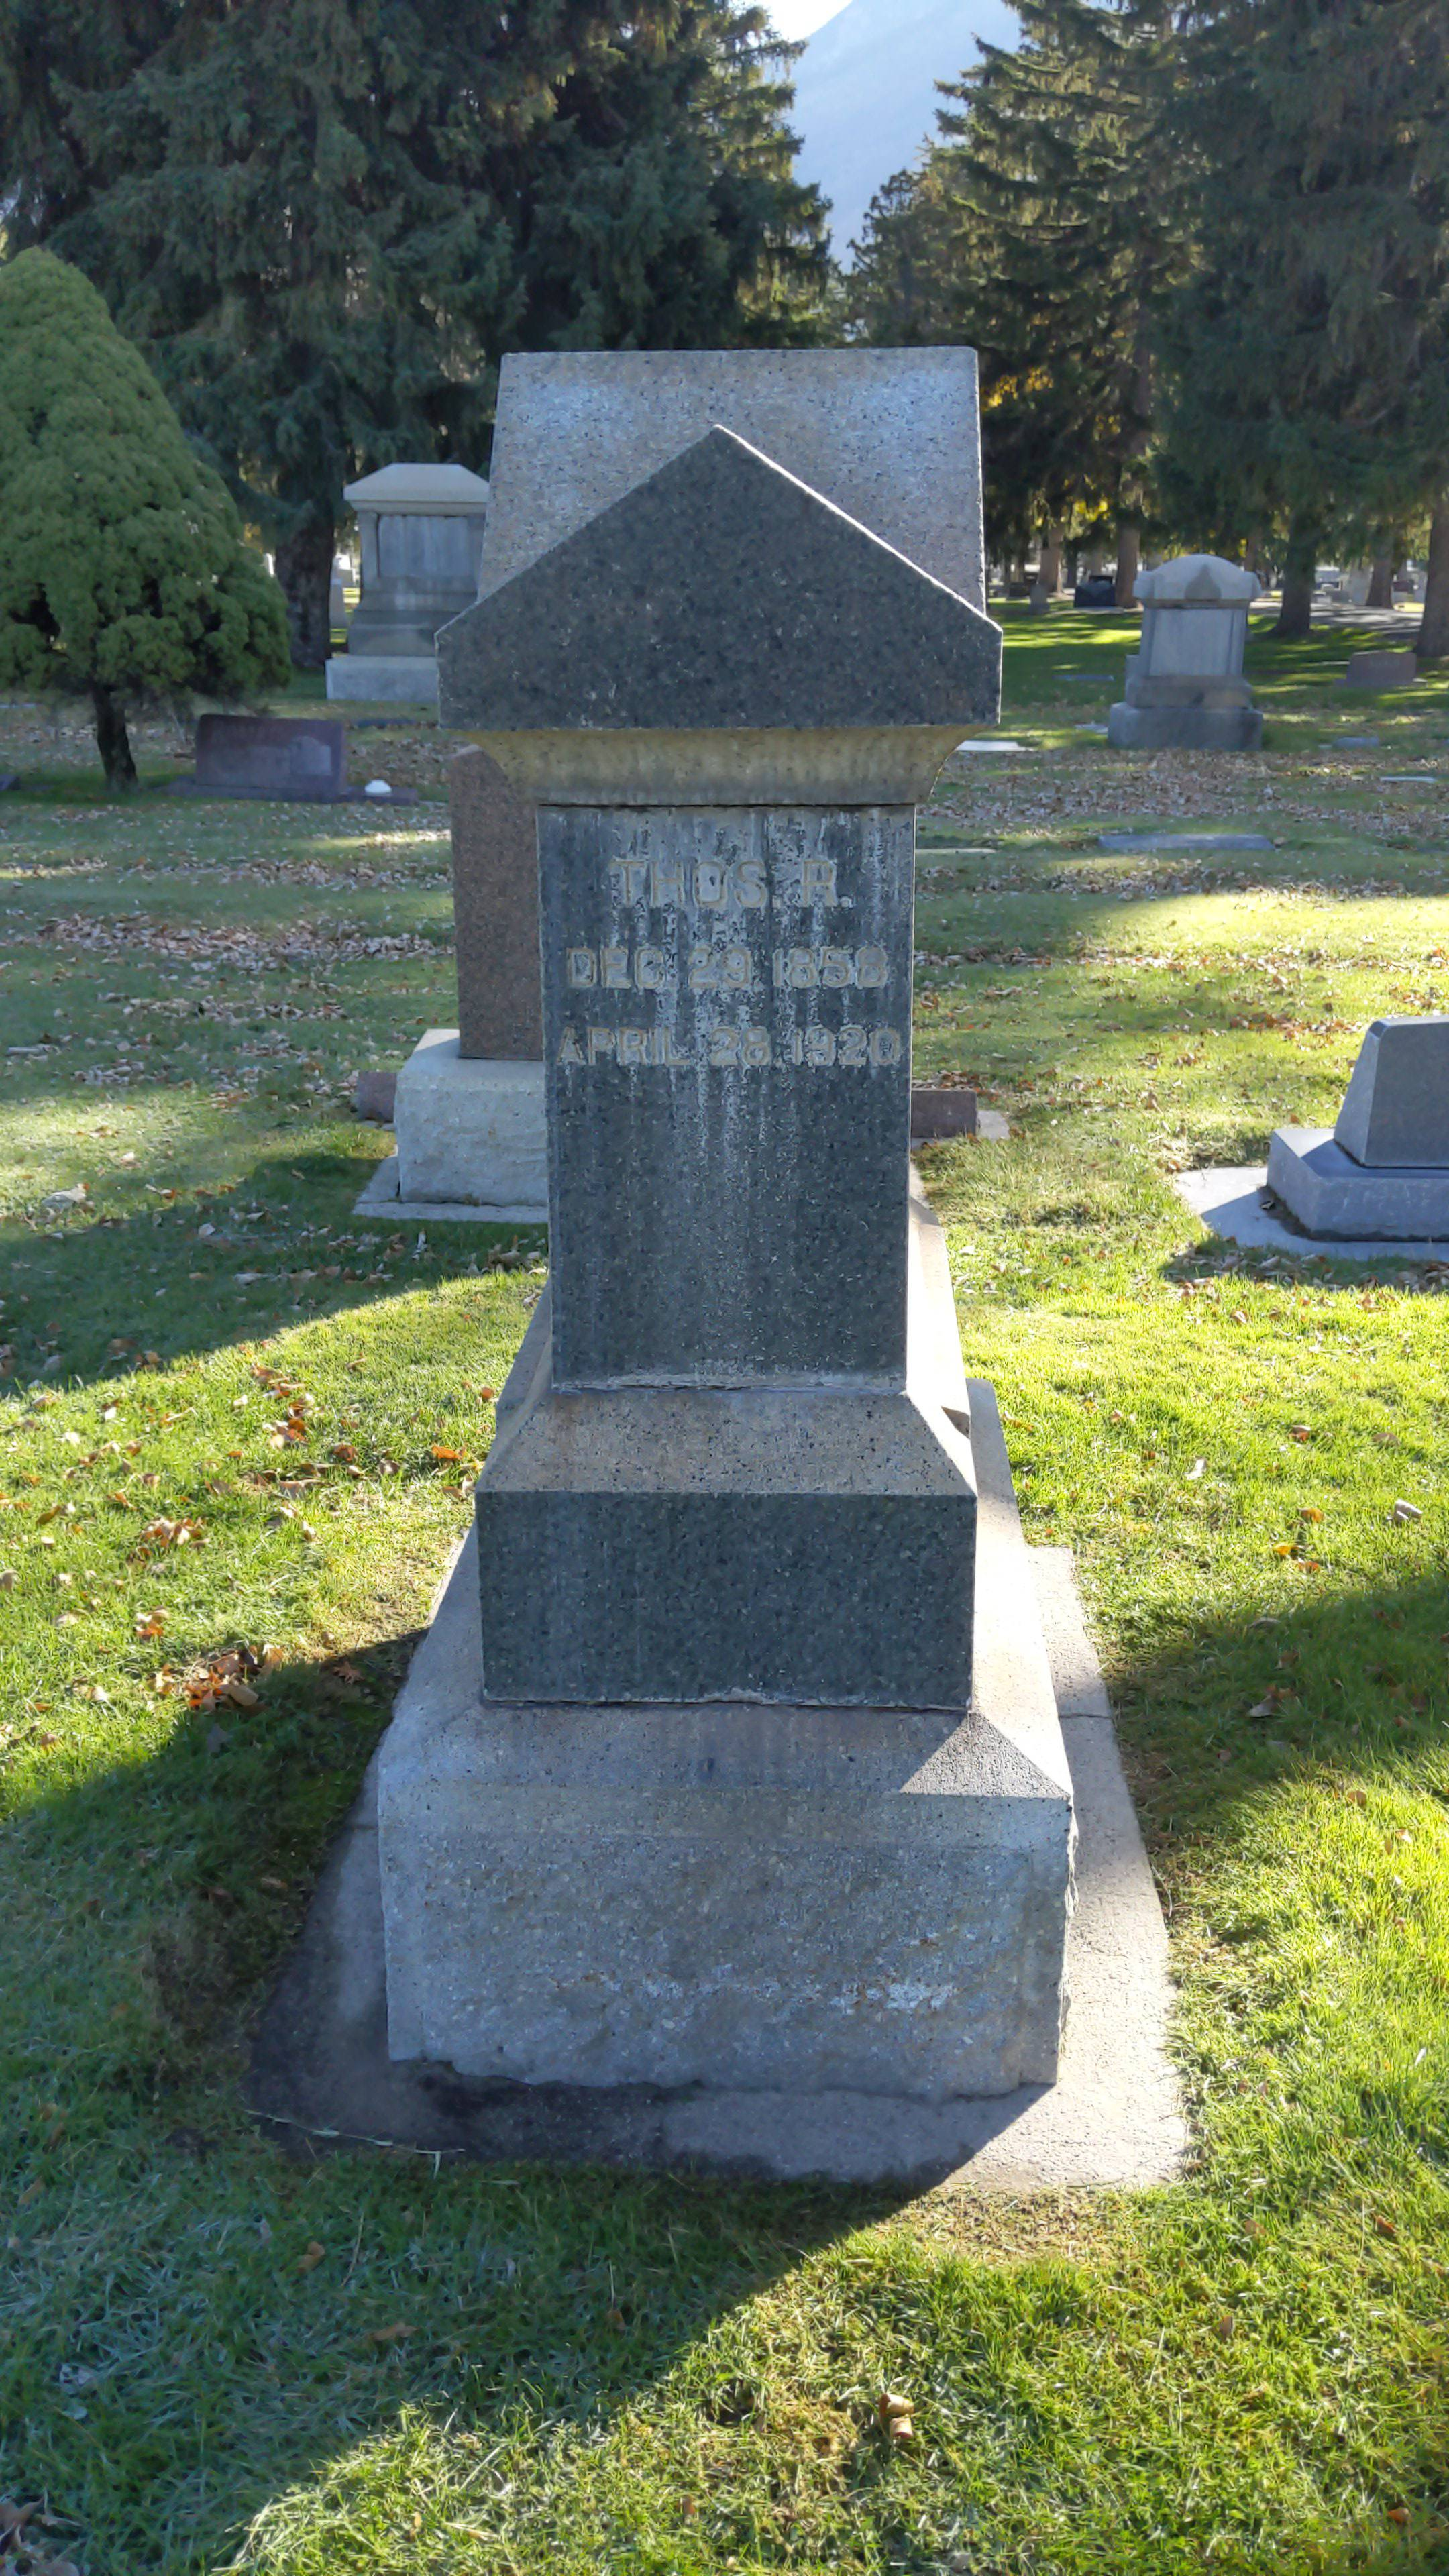obelisk: (455, 317, 1007, 1713)
